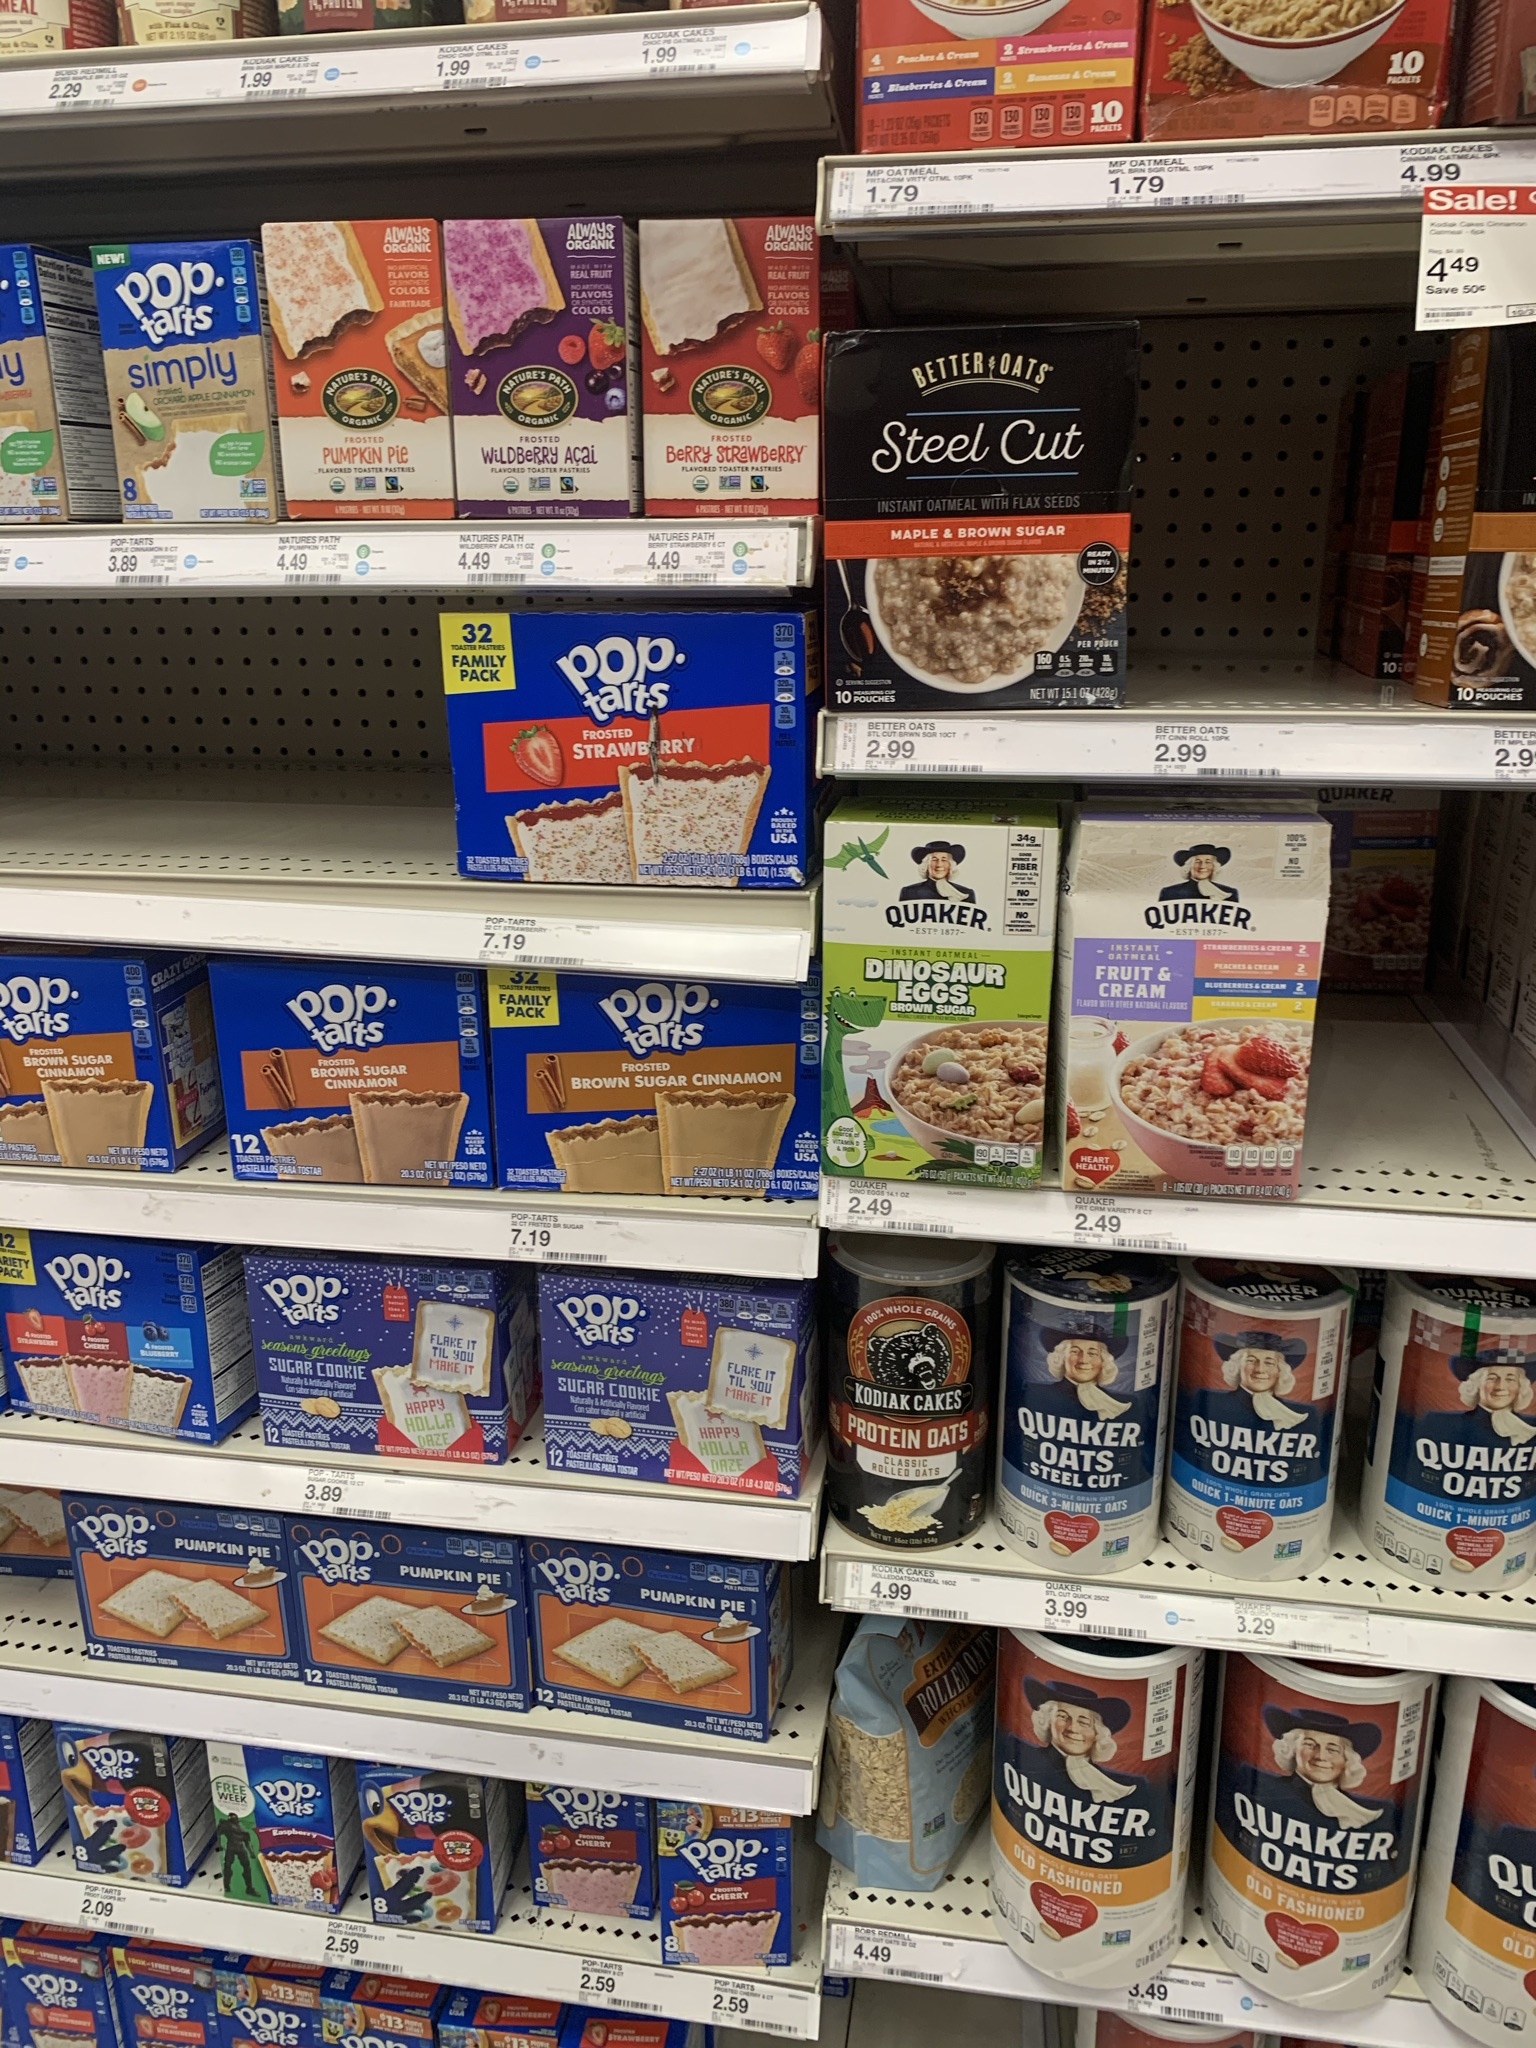box: (837, 347, 1113, 701), (457, 631, 787, 880), (1079, 856, 1300, 1197), (842, 842, 1033, 1180), (507, 1000, 803, 1185), (224, 989, 478, 1177), (253, 1272, 503, 1463), (541, 1297, 787, 1488), (453, 235, 624, 506), (645, 235, 810, 497), (273, 250, 436, 506), (537, 1569, 757, 1730), (110, 273, 248, 510), (308, 1542, 513, 1696), (77, 1522, 278, 1664), (2, 984, 153, 1169), (2, 1269, 195, 1408), (671, 1830, 794, 1967), (224, 1758, 328, 1900), (69, 1750, 171, 1880), (373, 1790, 471, 1922), (549, 1804, 645, 1916)
can: (1233, 1680, 1409, 1983), (1016, 1656, 1176, 1967), (1021, 1301, 1146, 1556), (1194, 1319, 1323, 1559), (1418, 1322, 1536, 1576), (849, 1279, 963, 1538)
